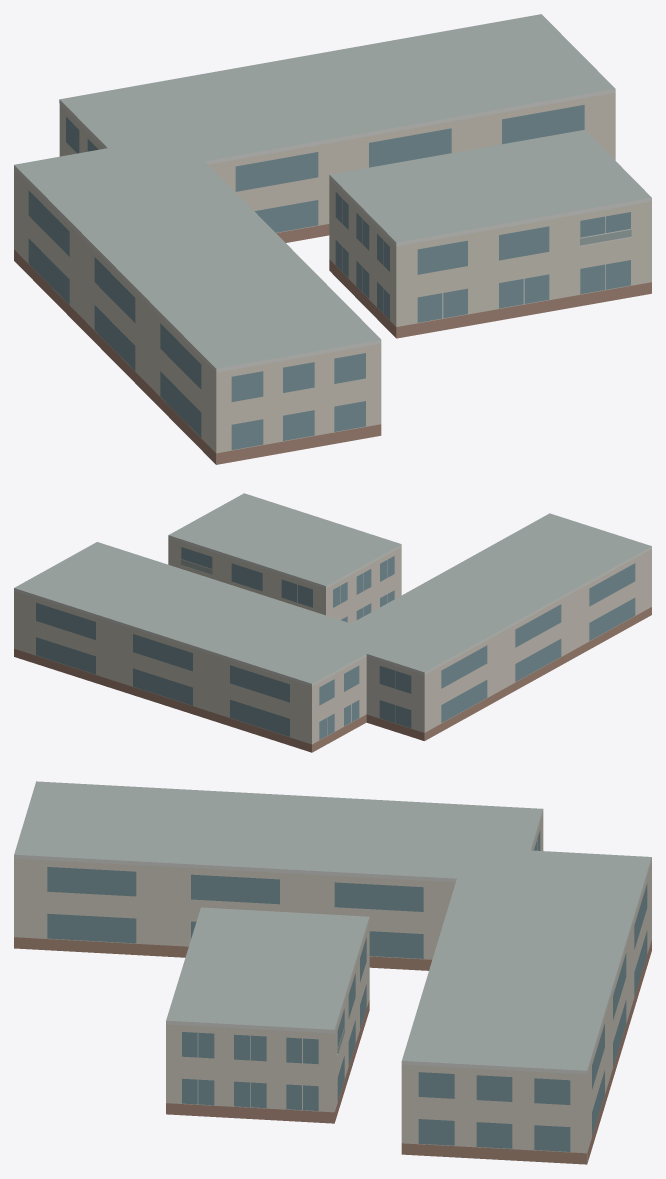
Rendered from residential-e626fc84-186e-44d4-a210-5195f51928d3.glb.
The picture shows the model from 3 angles, top to bottom: view 1: azimuth 30°, elevation 25°; view 2: azimuth 150°, elevation 25°; view 3: azimuth 270°, elevation 25°; orthographic projection. The views are drawn at different scales.
Parts seen in each view (by area): view 1: residential-e626fc84-186e-44d4-a210-5195f51928d3.tmp; view 2: residential-e626fc84-186e-44d4-a210-5195f51928d3.tmp; view 3: residential-e626fc84-186e-44d4-a210-5195f51928d3.tmp.
Boxes of the visible parts, <box> form: residential-e626fc84-186e-44d4-a210-5195f51928d3.tmp: <box>14,14,651,464</box>; residential-e626fc84-186e-44d4-a210-5195f51928d3.tmp: <box>14,493,651,752</box>; residential-e626fc84-186e-44d4-a210-5195f51928d3.tmp: <box>14,781,651,1164</box>.
Bounding box in the file's own units: 40.4 × 6.1 × 37.63.
